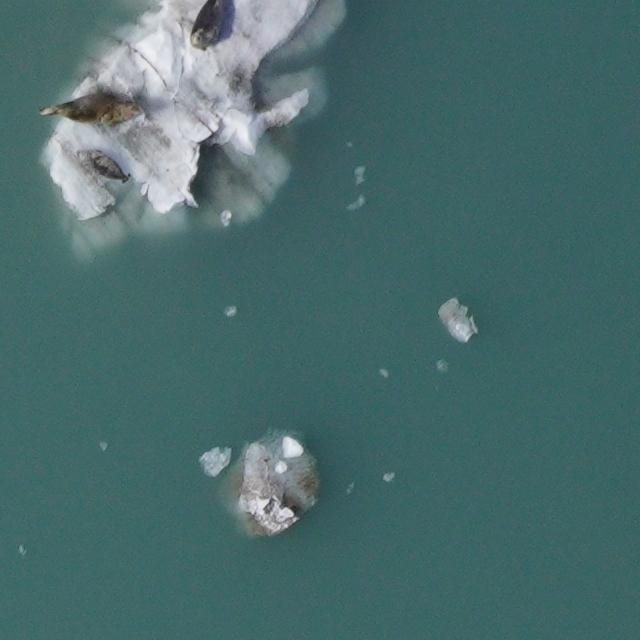seal: (33, 88, 151, 130), (72, 146, 134, 186), (188, 0, 233, 54)
